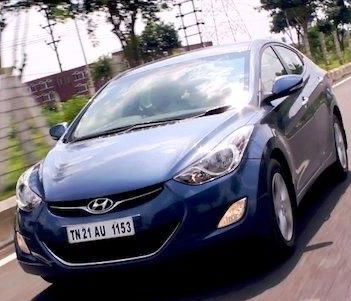TN21AU1153: (65, 216, 136, 244)
